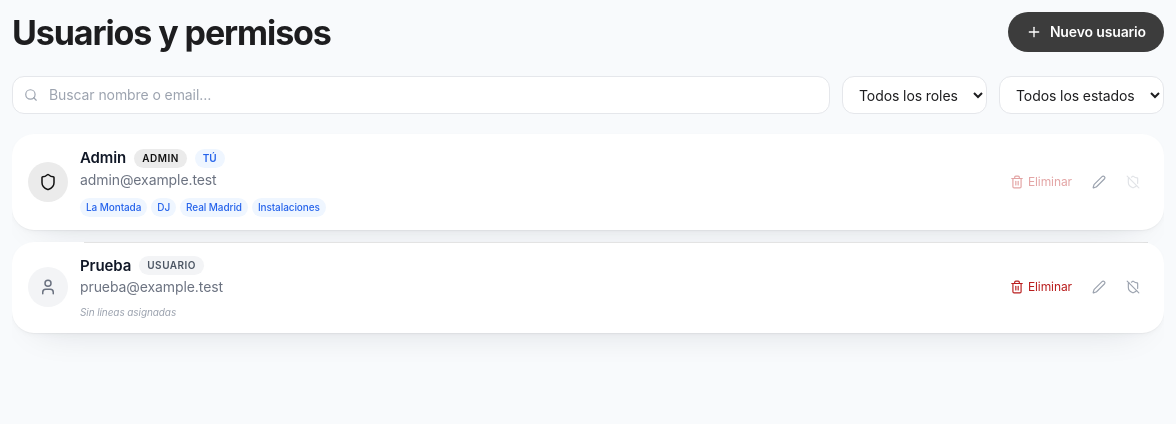
Scenario: Eliminar usuarios › muestra errores y permite reintentar sin anunciar borrado
Click the button with aria-label "Eliminar usuario Prueba" at (1041, 287), box x1=1002 y1=265 x2=1080 y2=309
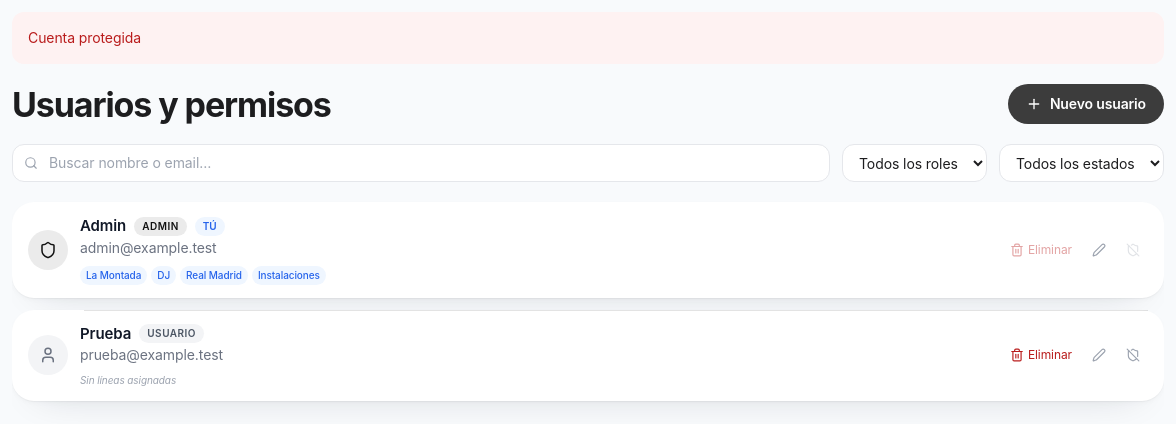
expect the message reads "Cuenta protegida": met, box x1=28 y1=29 x2=141 y2=46
